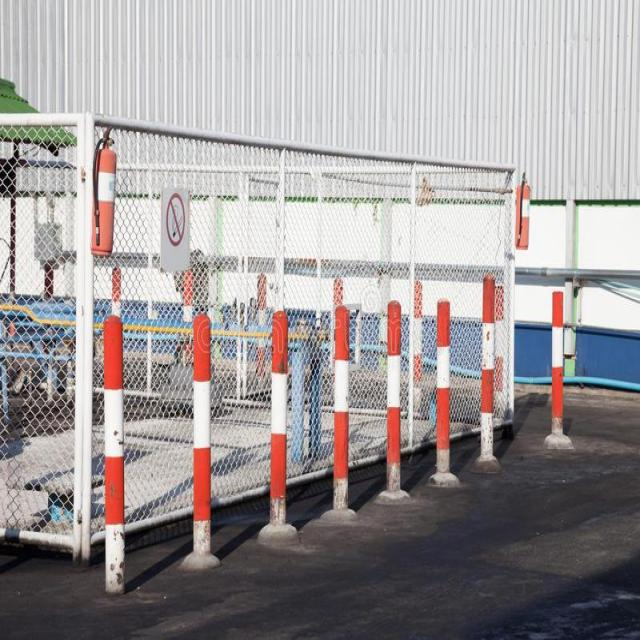fire_extinguisher: (84, 118, 122, 259)
